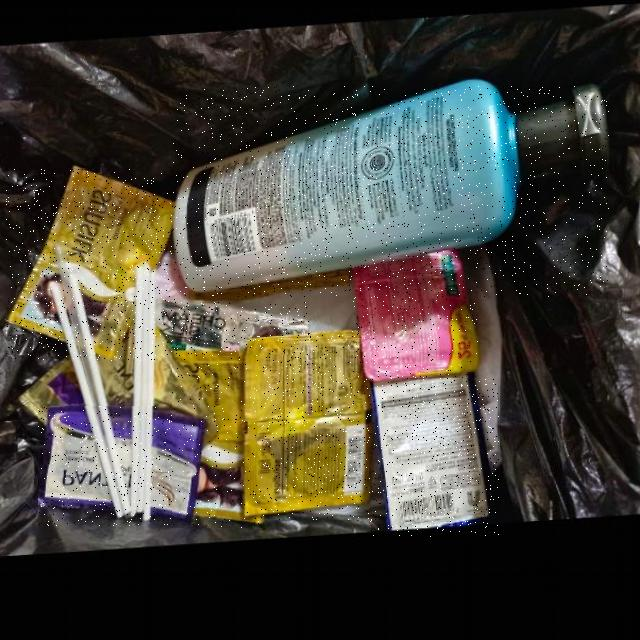plastic: (174, 86, 609, 296)
wrapper: (7, 169, 175, 361), (245, 335, 370, 520), (370, 378, 499, 536), (38, 406, 207, 525), (352, 257, 479, 388), (173, 355, 263, 528), (157, 302, 310, 354)
